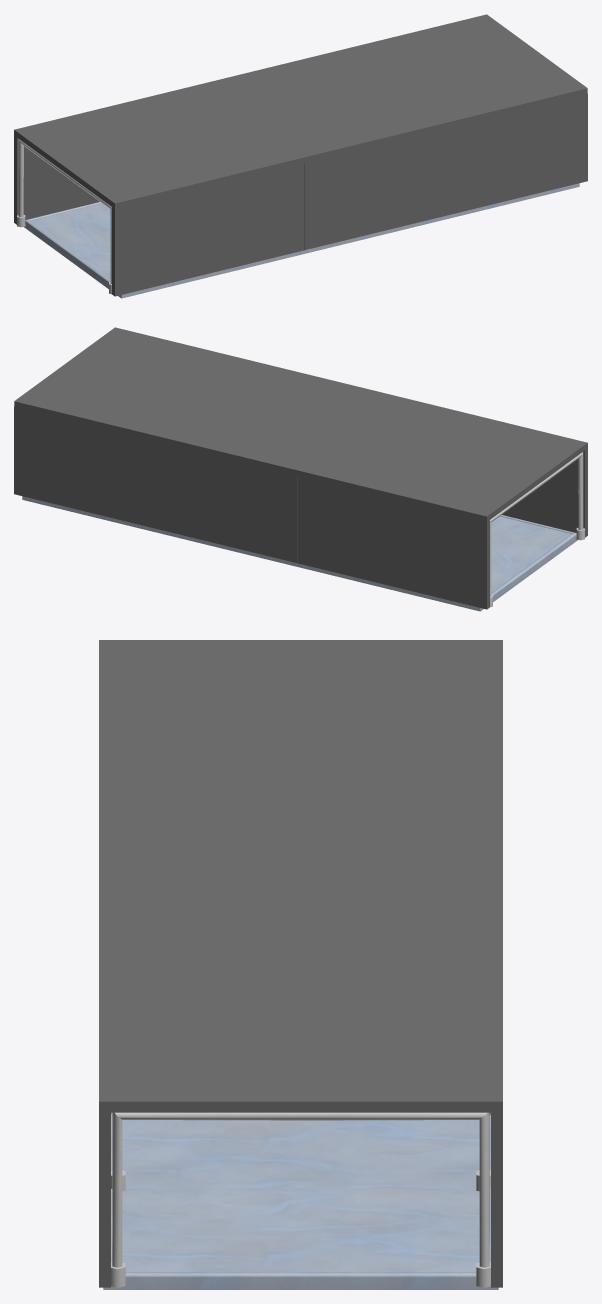
Rendered from Pfb_Tent__5.fbx.
The picture shows the model from 3 angles, top to bottom: view 1: azimuth 30°, elevation 25°; view 2: azimuth 150°, elevation 25°; view 3: azimuth 270°, elevation 25°; orthographic projection. The views are drawn at different scales.
Visible parts, largest first — view 1: MAT_Tent_Blue, MAT_Clothes_Blue, Mat_Tile_Metal_01 3; view 2: MAT_Tent_Blue, MAT_Clothes_Blue, Mat_Tile_Metal_01 3; view 3: MAT_Tent_Blue, MAT_Clothes_Blue, Mat_Tile_Metal_01 3.
Part boxes in pixels (x1,y1,x2,y2): MAT_Tent_Blue: (14, 14, 587, 296); MAT_Clothes_Blue: (24, 183, 579, 298); Mat_Tile_Metal_01 3: (17, 139, 111, 294); MAT_Tent_Blue: (14, 327, 587, 609); MAT_Clothes_Blue: (22, 496, 577, 611); Mat_Tile_Metal_01 3: (490, 452, 584, 607); MAT_Tent_Blue: (99, 640, 502, 1287); MAT_Clothes_Blue: (103, 1114, 498, 1289); Mat_Tile_Metal_01 3: (111, 1112, 490, 1287).
Size of the model in its own units: 15.98 by 3.14 by 5.88.
3 materials, 3 textured.
